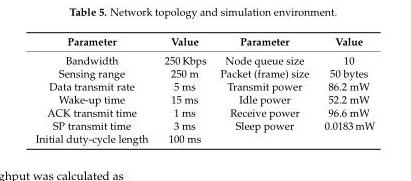table: (34, 34, 374, 144)
table column: (34, 34, 155, 144), (212, 34, 316, 144), (316, 34, 374, 144), (155, 34, 212, 144)
table column header: (34, 34, 374, 50)
table row: (34, 34, 374, 50), (34, 50, 374, 66), (34, 66, 374, 79), (34, 79, 374, 92), (34, 92, 374, 105), (34, 105, 374, 118), (34, 118, 374, 131), (34, 131, 374, 144)
